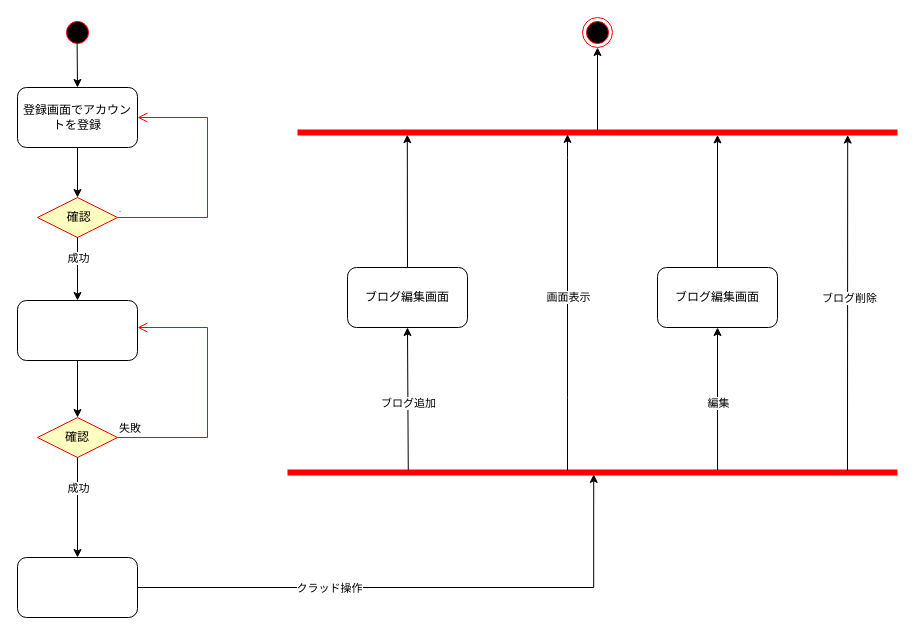
This 918x635 diagram has some shape labels left out. Each missing label, with the box of its shape:
ブログ画面: (16, 556, 138, 618)
ログイン画面でログインする: (16, 300, 138, 360)
